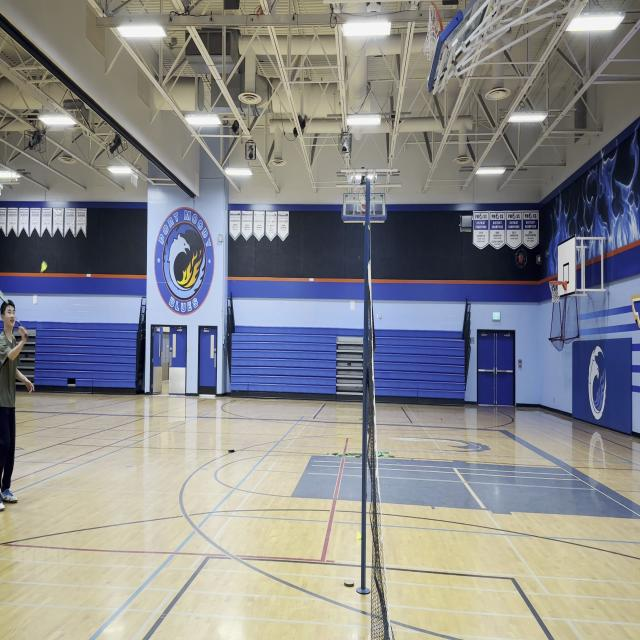shuttlecock: (41, 261, 48, 273)
